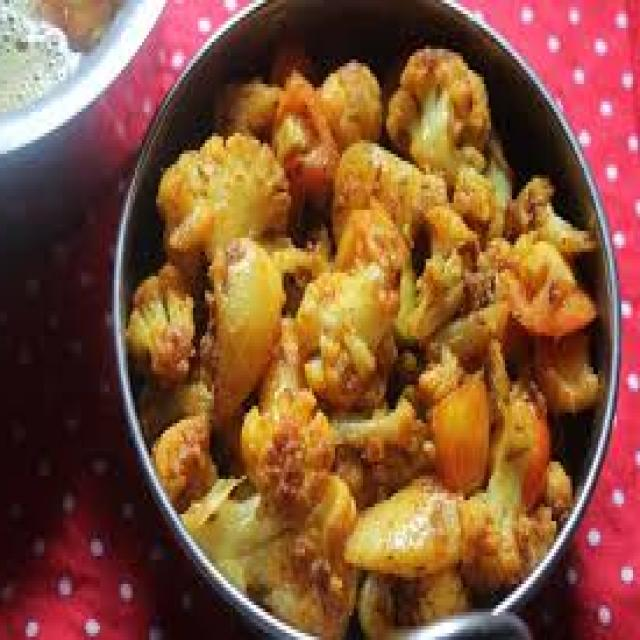Aloo Gobi: (276, 47, 504, 540)
